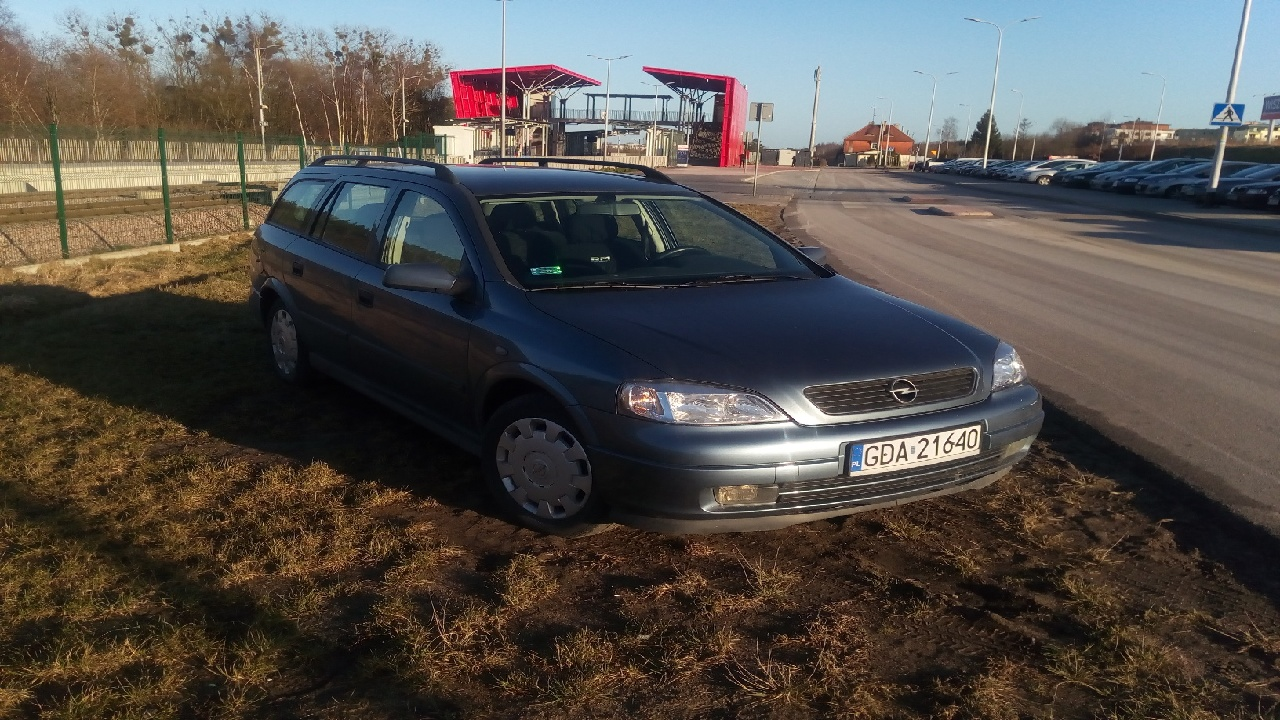D6: (1210, 101, 1243, 126)
